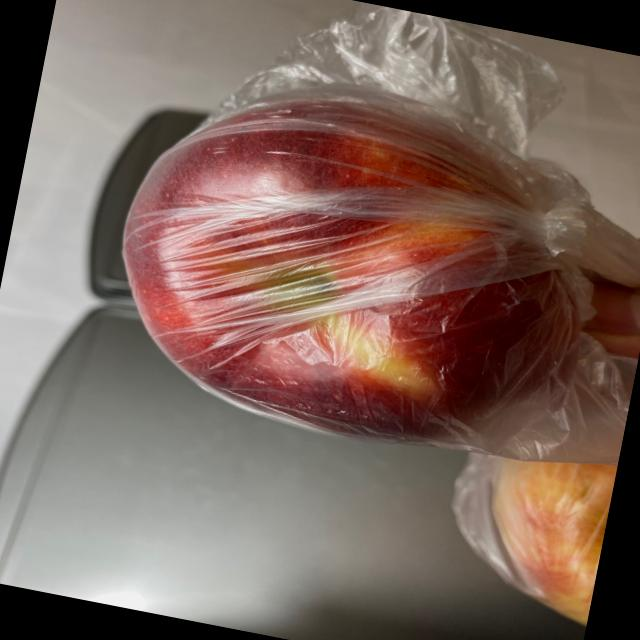apple: (66, 25, 640, 628)
